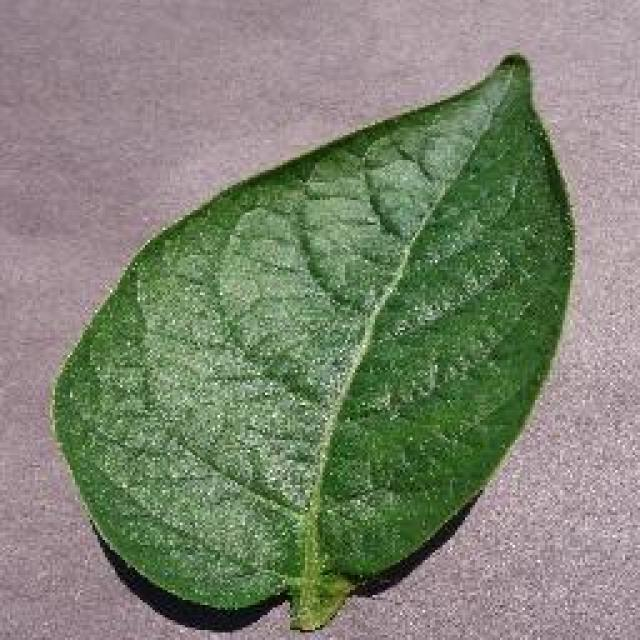healthy: (45, 47, 580, 635)
